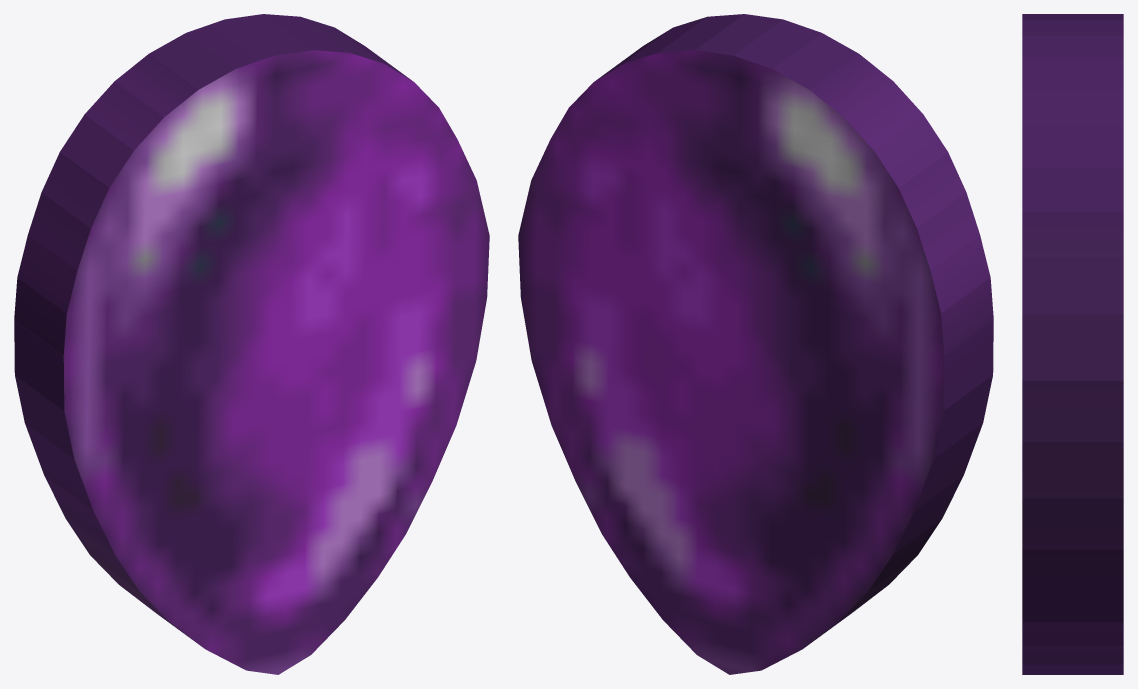
File: Rarity_Epic.glb
The picture shows the model from 3 angles, left to right: view 1: azimuth 30°, elevation 25°; view 2: azimuth 150°, elevation 25°; view 3: azimuth 270°, elevation 25°; orthographic projection. The views are drawn at different scales.
Visible parts, largest first — view 1: Circle; view 2: Circle; view 3: Circle.
Part boxes in pixels (bbox=[...]): Circle: bbox=[14, 14, 489, 674]; Circle: bbox=[518, 14, 993, 674]; Circle: bbox=[1022, 14, 1123, 674].
Size of the model in its own units: 0.4969 by 0.6914 by 0.1.
1 material, 1 textured.
